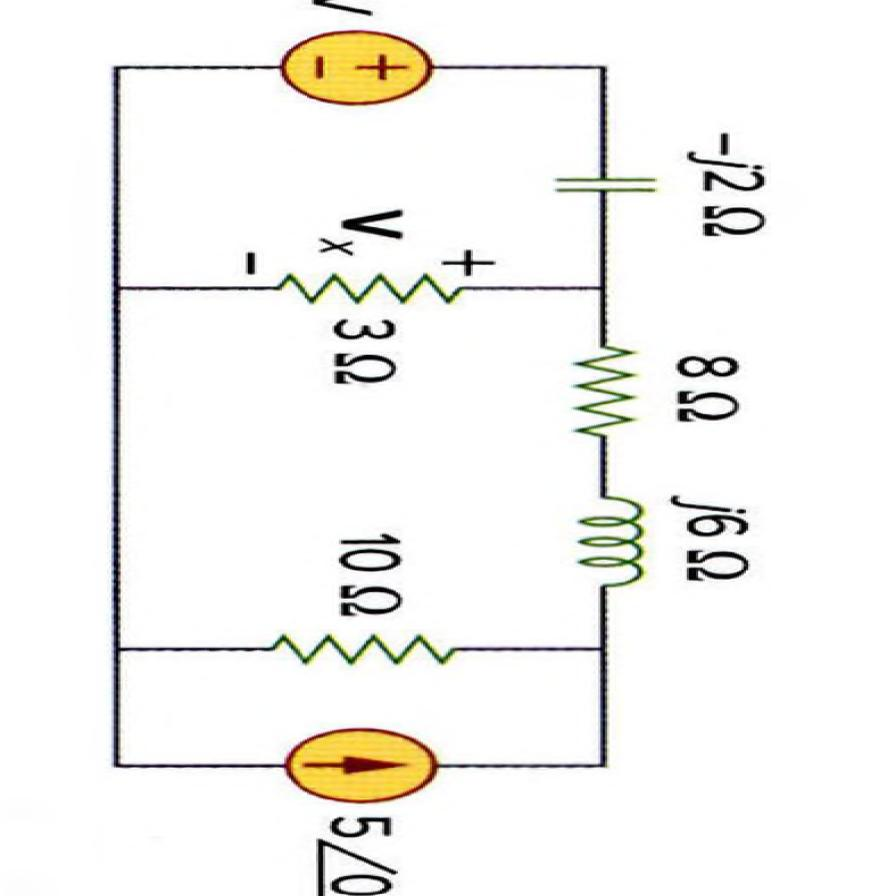I2: (266, 719, 454, 809)
L2: (548, 482, 660, 602)
R2: (551, 333, 653, 451)
V2: (278, 26, 441, 109)
